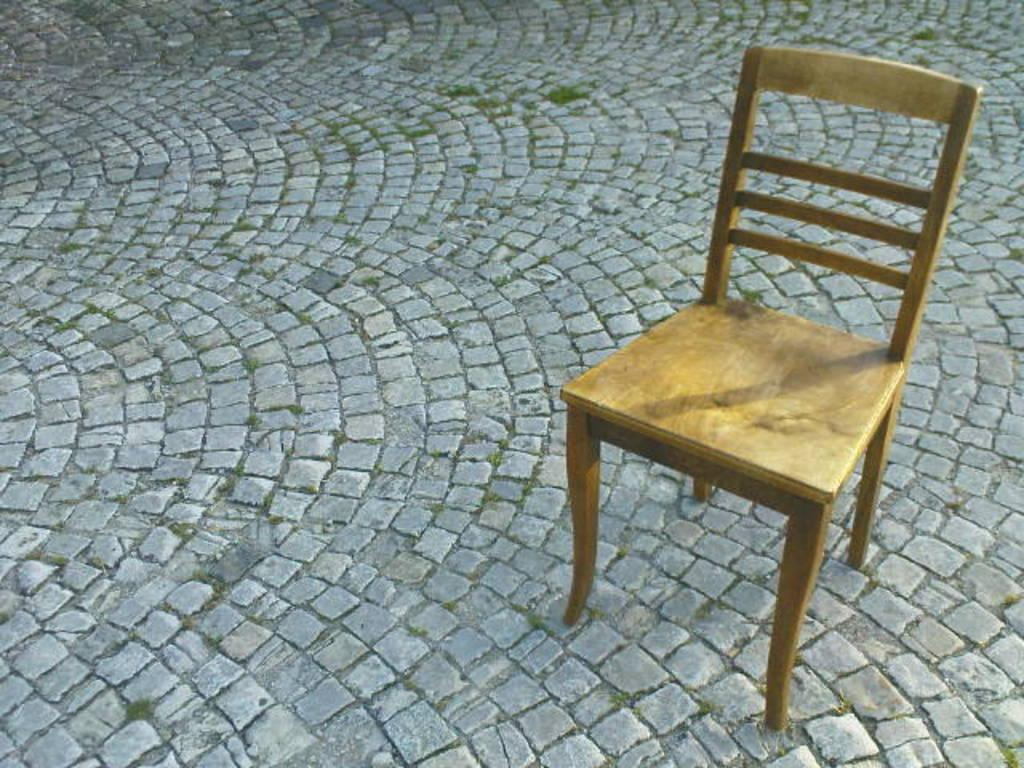Chair: (530, 6, 1000, 744)
